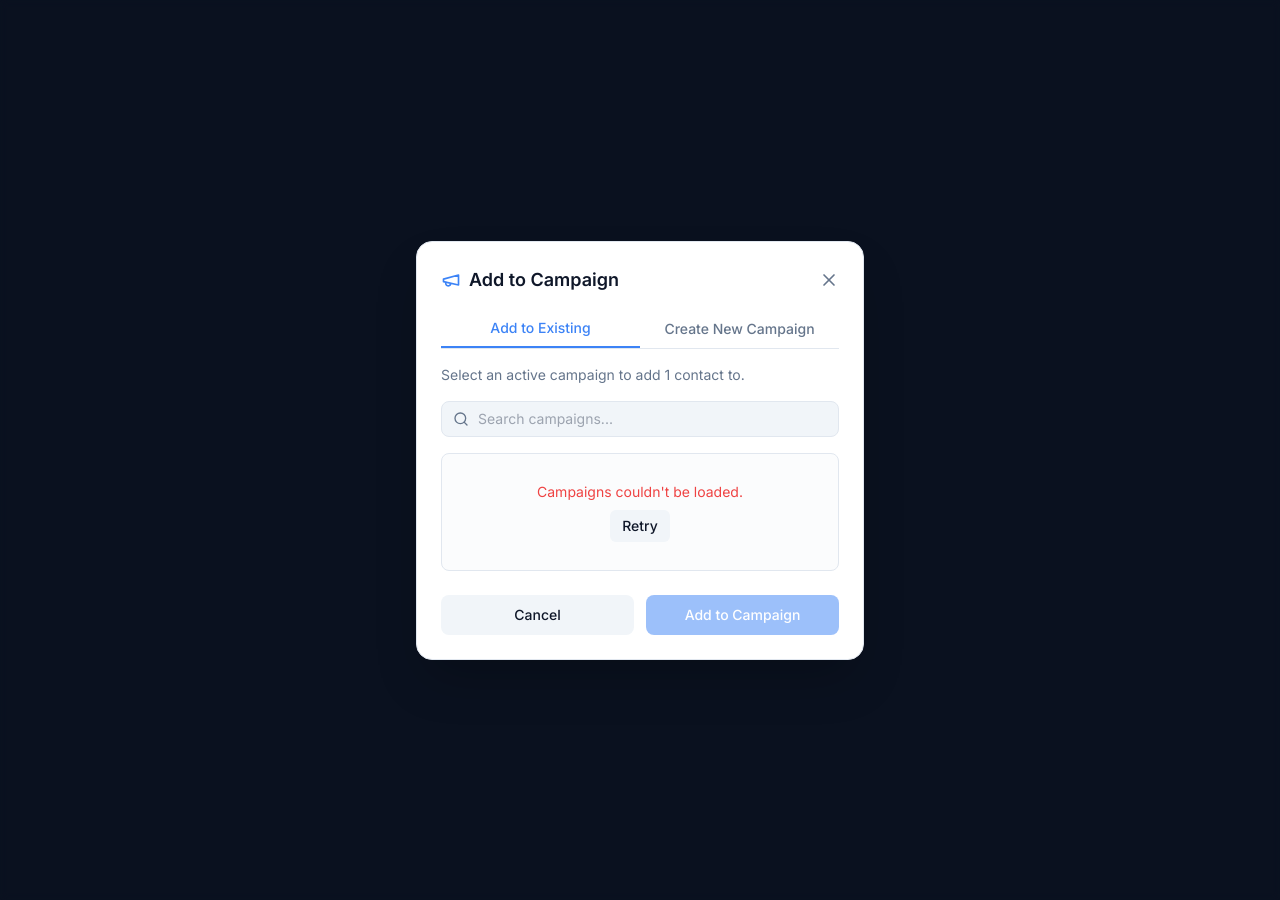
Test: AddToCampaignModal — loading, error and empty states › shows a load failure as an error with Retry, never as an empty result
Expected: the text "Campaigns couldn't be loaded." is shown, [537,482,743,502]
Click the button "Retry" at [640, 526], box [610,510,670,542]
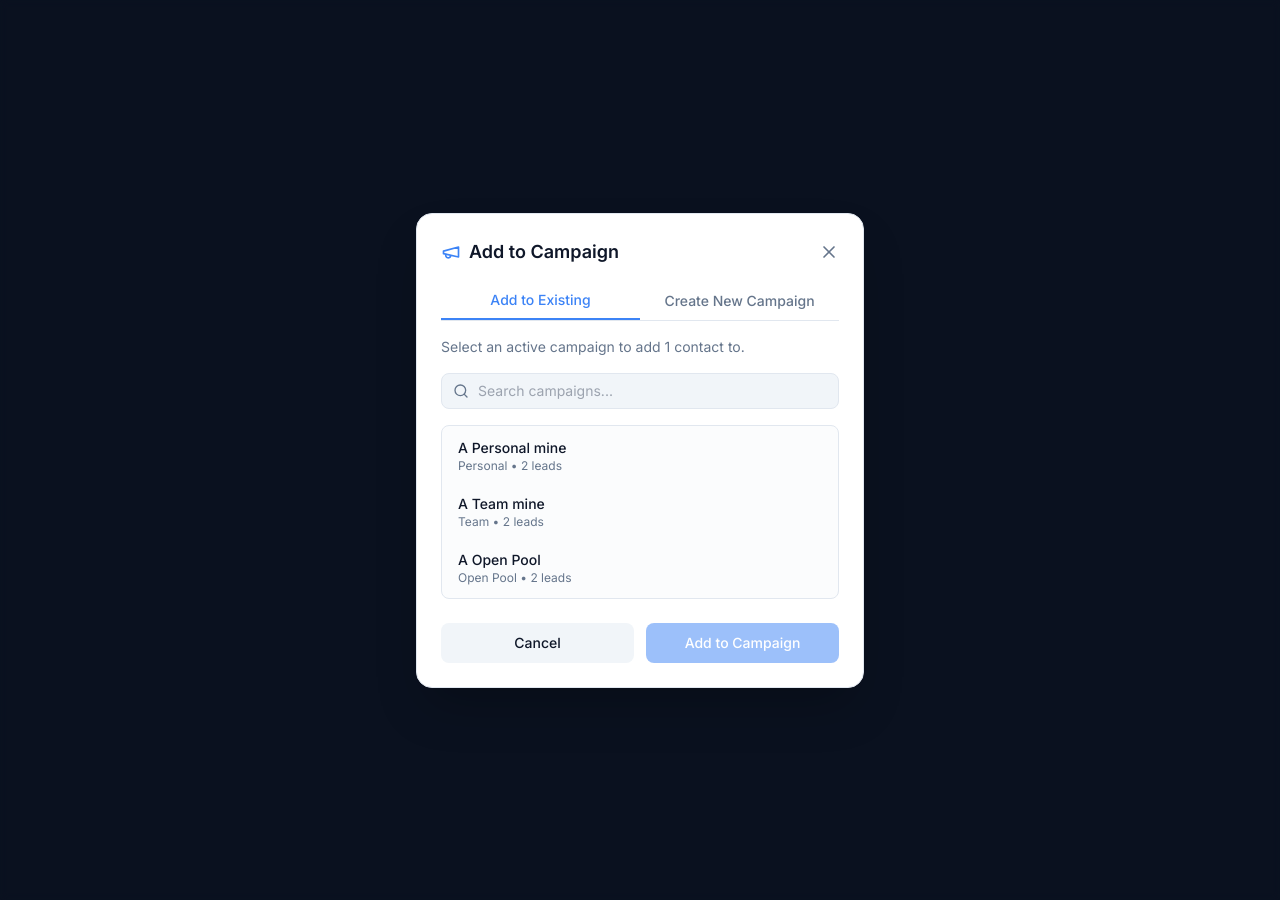
Now the text "A Open Pool" is shown, box [458,550,541,568]
